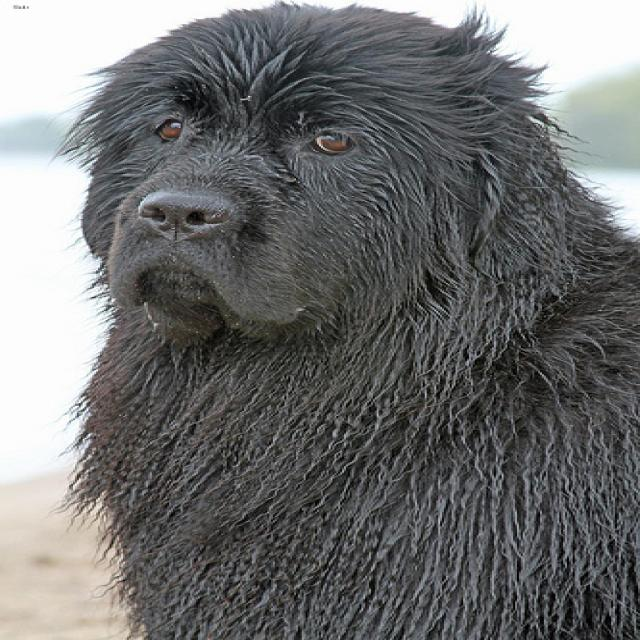dog-newfoundland: (40, 1, 636, 637)
